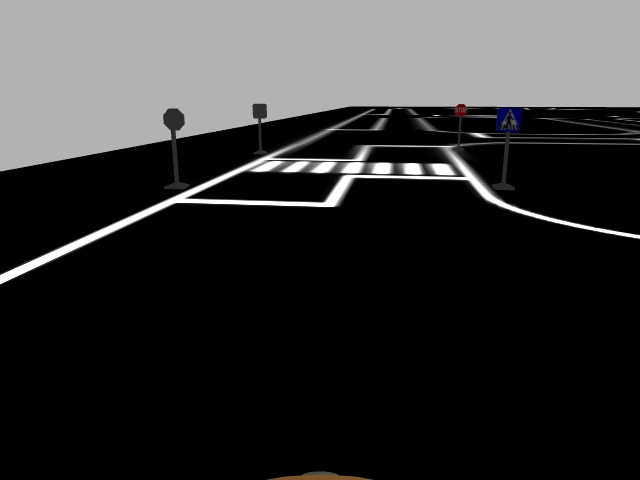crosswalk: (495, 104, 524, 136)
stop: (453, 101, 468, 118)
